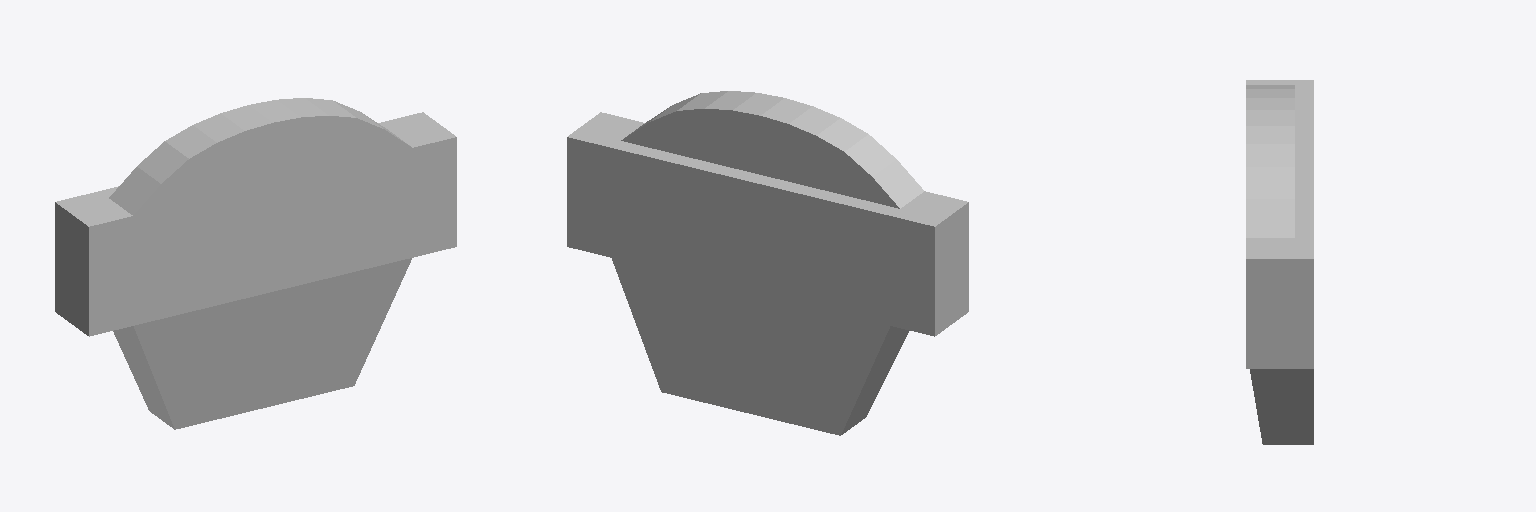
File: semi.obj
3 views of the same model, side by side, from view 1: azimuth 30°, elevation 25°; view 2: azimuth 150°, elevation 25°; view 3: azimuth 270°, elevation 25° (orthographic).
Parts seen in each view (by area): view 1: ceilmain_Cube.003, ceilslope_Cube.006, wallsides_Cube.008, stageback_Cube.007, ceilsides.001_Cube.010, ceilsides_Cube.009, wallslope_Cube.002; view 2: floor_Cube.005, stage_Cube.001, wallsides_Cube.008, stageback_Cube.007, wallslope_Cube.002; view 3: wallsides_Cube.008, stageback_Cube.007, wallslope_Cube.002, stage_Cube.001.
Boxes of the visible parts, box(x1,y1,x2,y2) form: ceilmain_Cube.003: box(133, 116, 412, 325); ceilslope_Cube.006: box(134, 258, 411, 429); wallsides_Cube.008: box(55, 112, 455, 335); stageback_Cube.007: box(109, 98, 409, 215); ceilsides.001_Cube.010: box(413, 137, 456, 257); ceilsides_Cube.009: box(89, 216, 132, 336); wallslope_Cube.002: box(113, 326, 174, 429); floor_Cube.005: box(567, 137, 934, 435); stage_Cube.001: box(612, 109, 899, 215); wallsides_Cube.008: box(568, 112, 968, 335); stageback_Cube.007: box(625, 91, 923, 208); wallslope_Cube.002: box(841, 326, 909, 434); wallsides_Cube.008: box(1246, 80, 1313, 368); stageback_Cube.007: box(1246, 85, 1294, 237); wallslope_Cube.002: box(1250, 369, 1313, 444); stage_Cube.001: box(1295, 101, 1313, 237).
Size of the model in its own units: 16.59 by 12.54 by 2.65.